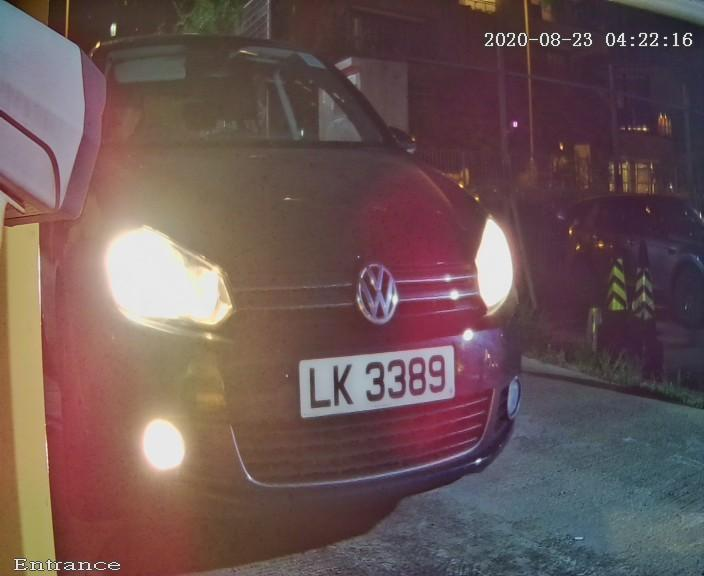Car: (26, 19, 585, 556)
License Plate: (259, 314, 512, 443)
